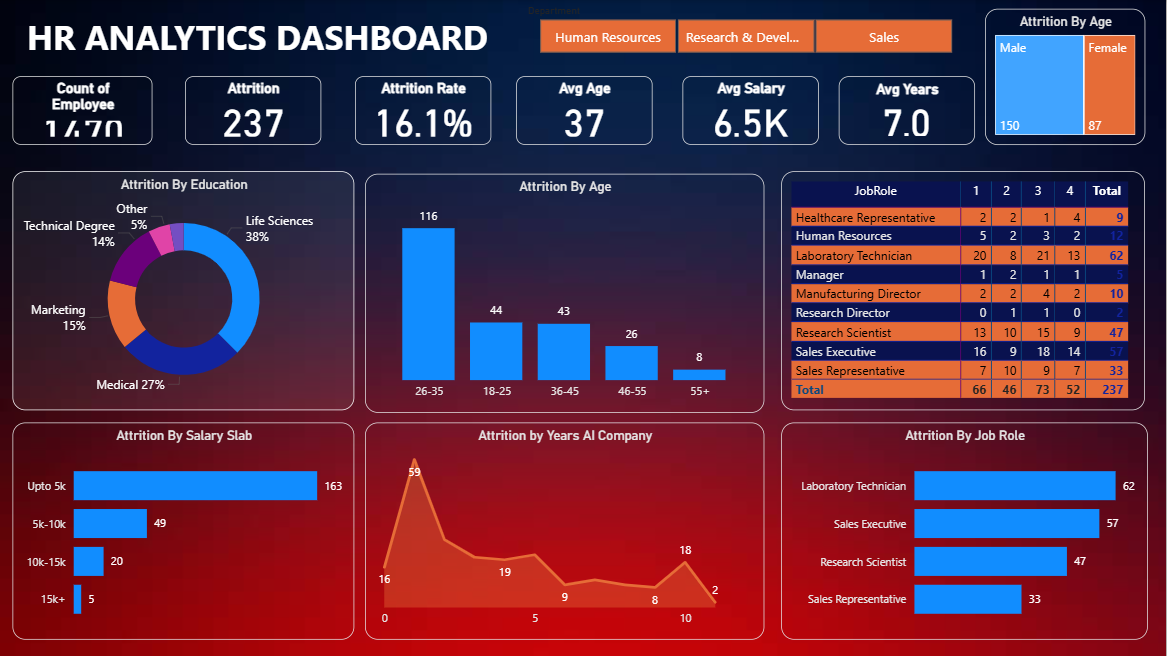

What the dashboard file says about the page in this screenshot:
{"tool":"powerbi","page":{"name":"Page 1","canvas":[1280,720],"ordinal":0},"visuals":[{"type":"card","title":"Count of Employee","fields":{"Values":["CountNonNull(HR_Analytics.EmpID)"]},"box":[14.1,83.3,154,75.4],"z":0},{"type":"card","title":"Attrition","fields":{"Values":["Sum(HR_Analytics.AttritionCount)"]},"box":[202.7,83.3,149.2,75.4],"z":1000},{"type":"card","title":"Attrition Rate","fields":{"Values":["HR_Analytics.AttritionRate"]},"box":[389.6,83.3,149.2,75.4],"z":2000},{"type":"card","title":"Avg Age","fields":{"Values":["Avg(HR_Analytics.Age)"]},"box":[567.1,83.3,149.2,75.4],"z":3000},{"type":"card","title":"Avg Salary","fields":{"Values":["Avg(HR_Analytics.MonthlyIncome)"]},"box":[749.3,83.3,149.2,75.4],"z":4000},{"type":"card","title":"Avg Years","fields":{"Values":["Avg(HR_Analytics.YearsAtCompany)"]},"box":[920.6,83.3,149.2,75.4],"z":5000},{"type":"donutChart","title":"Attrition By Education","fields":{"Category":["HR_Analytics.EducationField"],"Y":["Sum(HR_Analytics.AttritionCount)"]},"box":[14.1,188.5,375.5,262.3],"z":6000},{"type":"columnChart","title":"Attrition By Age","fields":{"Category":["HR_Analytics.AgeGroup"],"Y":["Sum(HR_Analytics.AttritionCount)"]},"box":[400.6,190.1,438.3,262.3],"z":7000},{"type":"pivotTable","fields":{"Rows":["HR_Analytics.JobRole"],"Columns":["HR_Analytics.JobSatisfaction"],"Values":["Sum(HR_Analytics.AttritionCount)"]},"box":[857.7,188.5,399,262.3],"z":8000},{"type":"barChart","title":"Attrition By Salary Slab","fields":{"Category":["HR_Analytics.SalarySlab"],"Y":["Sum(HR_Analytics.AttritionCount)"]},"box":[14.1,463.4,375.5,238.8],"z":9000},{"type":"clusteredBarChart","title":"Attrition By Job Role","fields":{"Category":["HR_Analytics.JobRole"],"Y":["Sum(HR_Analytics.AttritionCount)"]},"box":[857.7,463.4,402.2,238.8],"z":10000},{"type":"areaChart","title":"Attrition by Years AI Company","fields":{"Category":["HR_Analytics.YearsAtCompany"],"Y":["Sum(HR_Analytics.AttritionCount)"]},"box":[400.6,463.4,438.3,238.8],"z":11000},{"type":"treemap","title":"Attrition By Age","fields":{"Group":["HR_Analytics.Gender"],"Values":["Sum(HR_Analytics.AttritionCount)"]},"box":[1080.8,9.4,175.9,149.2],"z":12000},{"type":"slicer","fields":{"Values":["HR_Analytics.Department"]},"box":[567.1,0,502.7,64.4],"z":13000},{"type":"textbox","box":[25.1,9.4,584.4,64.4],"z":14000}]}

Visuals, with their boxes in screenshot pixels (x1, y1, x2, y2), scaled from the page's 1280x720 canvas onto the 1167x656 screenshot:
"Count of Employee" card: BBox(13, 76, 153, 145)
"Attrition" card: BBox(185, 76, 321, 145)
"Attrition Rate" card: BBox(355, 76, 491, 145)
"Avg Age" card: BBox(517, 76, 653, 145)
"Avg Salary" card: BBox(683, 76, 819, 145)
"Avg Years" card: BBox(839, 76, 975, 145)
"Attrition By Education" donutChart: BBox(13, 172, 355, 411)
"Attrition By Age" columnChart: BBox(365, 173, 765, 412)
pivotTable - HR_Analytics.JobRole x HR_Analytics.JobSatisfaction: BBox(782, 172, 1146, 411)
"Attrition By Salary Slab" barChart: BBox(13, 422, 355, 640)
"Attrition By Job Role" clusteredBarChart: BBox(782, 422, 1149, 640)
"Attrition by Years AI Company" areaChart: BBox(365, 422, 765, 640)
"Attrition By Age" treemap: BBox(985, 9, 1146, 145)
slicer - HR_Analytics.Department: BBox(517, 0, 975, 59)
textbox: BBox(23, 9, 556, 67)
